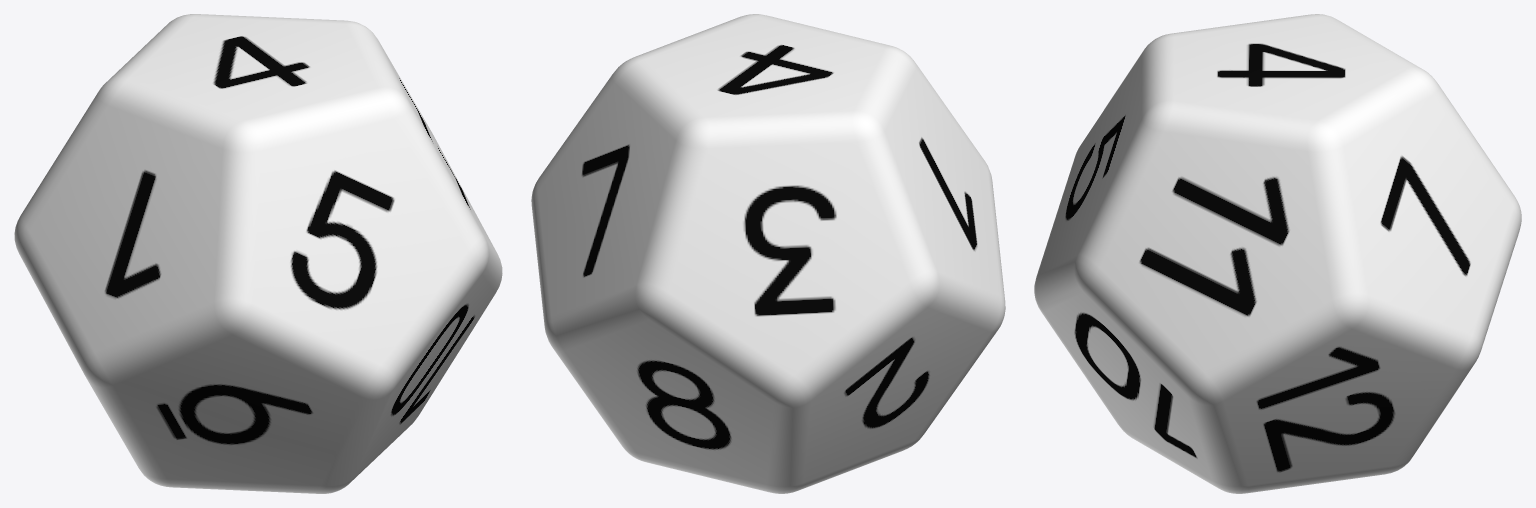
The model's file is D12_Vol.FBX.
3 views of the same model, side by side, from view 1: azimuth 30°, elevation 25°; view 2: azimuth 150°, elevation 25°; view 3: azimuth 270°, elevation 25° (orthographic). The views are drawn at different scales.
Visible parts, largest first — view 1: Dado12Numb; view 2: Dado12Numb; view 3: Dado12Numb.
Boxes of the visible parts, x1=… form: Dado12Numb: x1=14, y1=14, x2=502, y2=493; Dado12Numb: x1=531, y1=14, x2=1005, y2=493; Dado12Numb: x1=1034, y1=14, x2=1521, y2=493.
Size of the model in its own units: 237 by 207 by 247.
